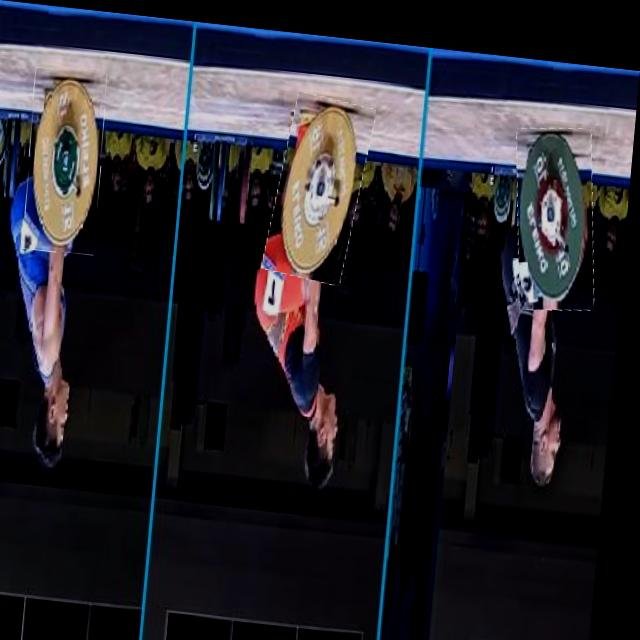barbell: (272, 86, 374, 277), (511, 112, 607, 302), (26, 66, 111, 254)
